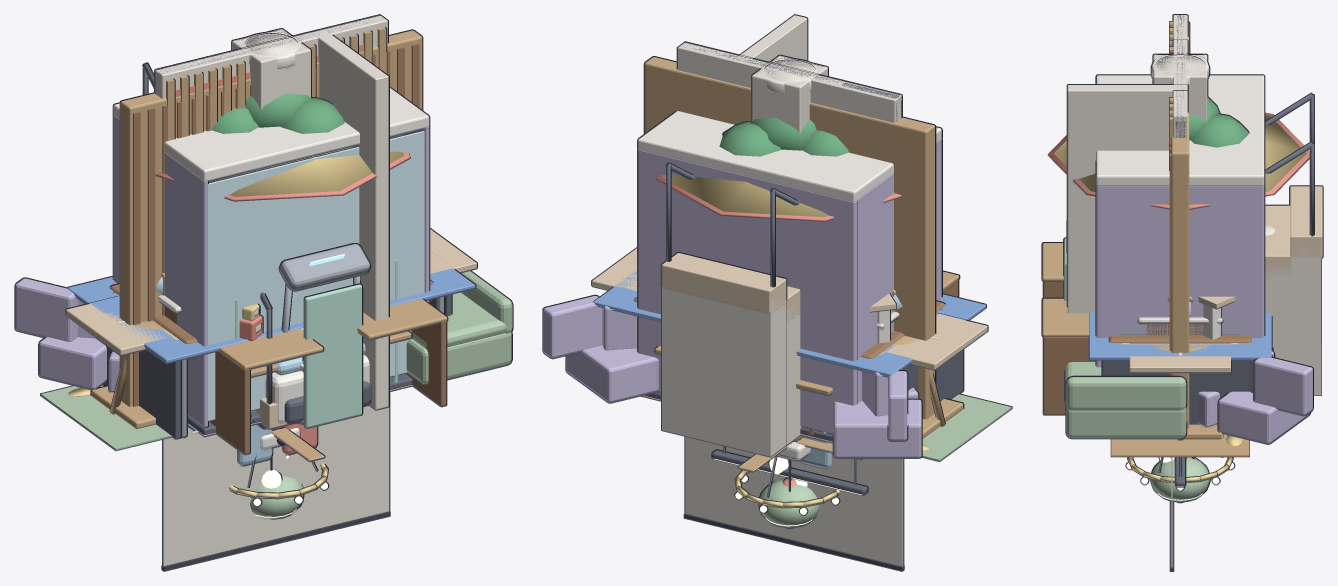
Rendered from vo_furniture_kit.glb.
3 renders of one model, left to right at view 1: azimuth 30°, elevation 25°; view 2: azimuth 150°, elevation 25°; view 3: azimuth 270°, elevation 25°, orthographic. The views are drawn at different scales.
Parts seen in each view (by area): view 1: SM_acoustic_booth_duo, SM_projector_screen, SM_lobby_logo_wall, SM_wall_corner, SM_desk_u_shape, SM_desk_hexagon_pod, SM_sofa_curved, SM_sofa_l_shape, SM_patio_umbrella, SM_pingpong_table, SM_treadmill, SM_wall_accent_slats (+24 smaller); view 2: SM_acoustic_booth_duo, SM_stairs_straight, SM_lobby_logo_wall, SM_projector_screen, SM_sofa_curved, SM_wall_2m, SM_patio_umbrella, SM_table_conference_boat, SM_tree_indoor, SM_pingpong_table, SM_column_square, SM_prayer_mat_row (+19 smaller); view 3: SM_acoustic_booth_duo, SM_wall_corner, SM_stairs_straight, SM_sofa_l_shape, SM_sofa_curved, SM_desk_u_shape, SM_lobby_logo_wall, SM_pingpong_table, SM_patio_umbrella, SM_prayer_mat_row, SM_desk_hot_4, SM_column_square (+20 smaller).
Boxes of the visible parts, x1,y1,x2,y2 form: SM_acoustic_booth_duo: (113,88,429,434); SM_projector_screen: (162,406,389,570); SM_lobby_logo_wall: (120,30,422,406); SM_wall_corner: (312,29,388,409); SM_desk_u_shape: (209,298,447,453); SM_desk_hexagon_pod: (235,259,397,427); SM_sofa_curved: (15,278,119,392); SM_sofa_l_shape: (406,271,512,384); SM_patio_umbrella: (155,134,409,201); SM_pingpong_table: (67,268,475,362); SM_treadmill: (280,244,370,423); SM_wall_accent_slats: (166,27,386,140); SM_acoustic_booth_duo: (638,111,941,441); SM_stairs_straight: (661,163,801,456); SM_lobby_logo_wall: (644,57,934,419); SM_projector_screen: (684,437,903,570); SM_sofa_curved: (543,295,921,457); SM_wall_2m: (678,42,901,122); SM_patio_umbrella: (656,174,901,221); SM_table_conference_boat: (592,248,987,369); SM_tree_indoor: (719,117,848,156); SM_pingpong_table: (593,271,985,376); SM_column_square: (752,55,827,132); SM_prayer_mat_row: (922,394,1011,461); SM_acoustic_booth_duo: (1096,75,1264,367); SM_wall_corner: (1067,85,1187,313); SM_stairs_straight: (1265,93,1322,395); SM_sofa_l_shape: (1065,362,1186,438); SM_sofa_curved: (1197,351,1312,443); SM_desk_u_shape: (1042,243,1095,414); SM_lobby_logo_wall: (1169,22,1189,428); SM_pingpong_table: (1089,312,1271,359); SM_patio_umbrella: (1048,112,1309,209); SM_prayer_mat_row: (1111,434,1249,456); SM_desk_hot_4: (1102,360,1249,424); SM_column_square: (1153,54,1207,120).
Size of the model in its own units: 3.43 by 4.2 by 2.35.
